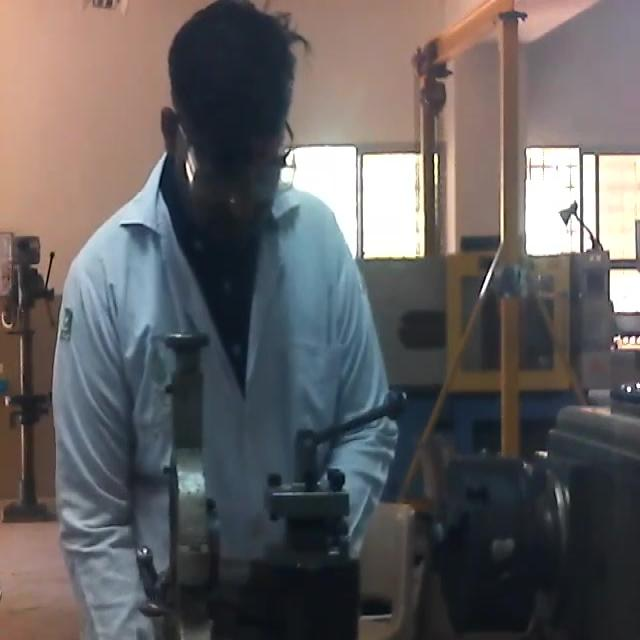googles: (180, 143, 295, 205)
labcoat: (52, 148, 400, 640)
